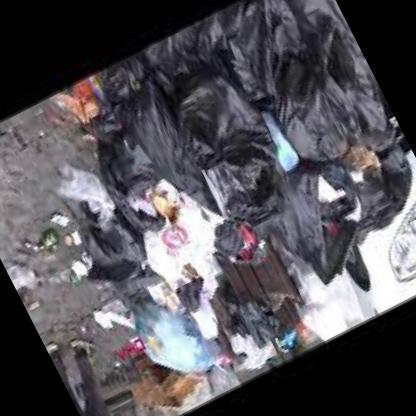Garbage: (64, 0, 360, 314), (201, 0, 415, 240), (84, 262, 185, 387), (20, 204, 91, 302), (135, 202, 203, 284), (220, 320, 275, 376), (228, 286, 277, 342)
